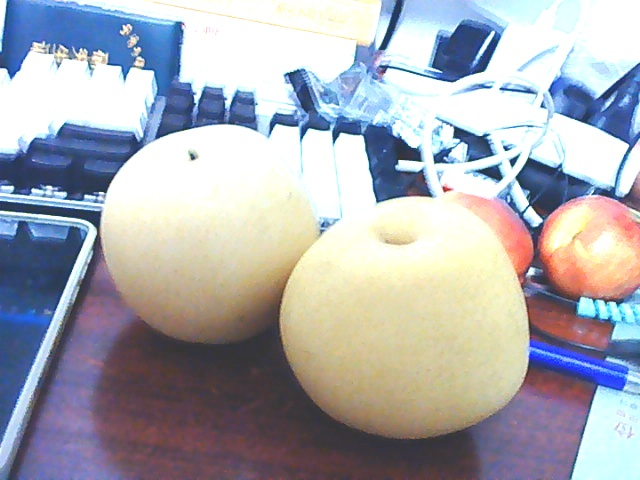peach: (539, 189, 640, 302)
pear: (96, 129, 528, 439)
